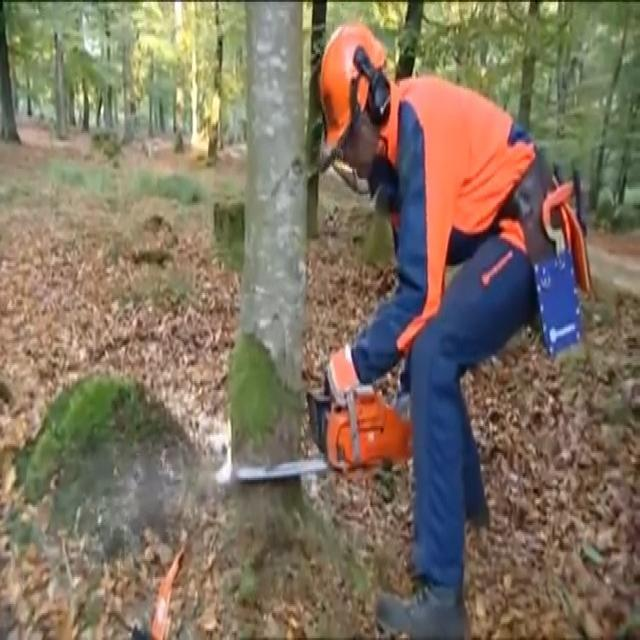Chainsaw: (214, 355, 434, 503)
